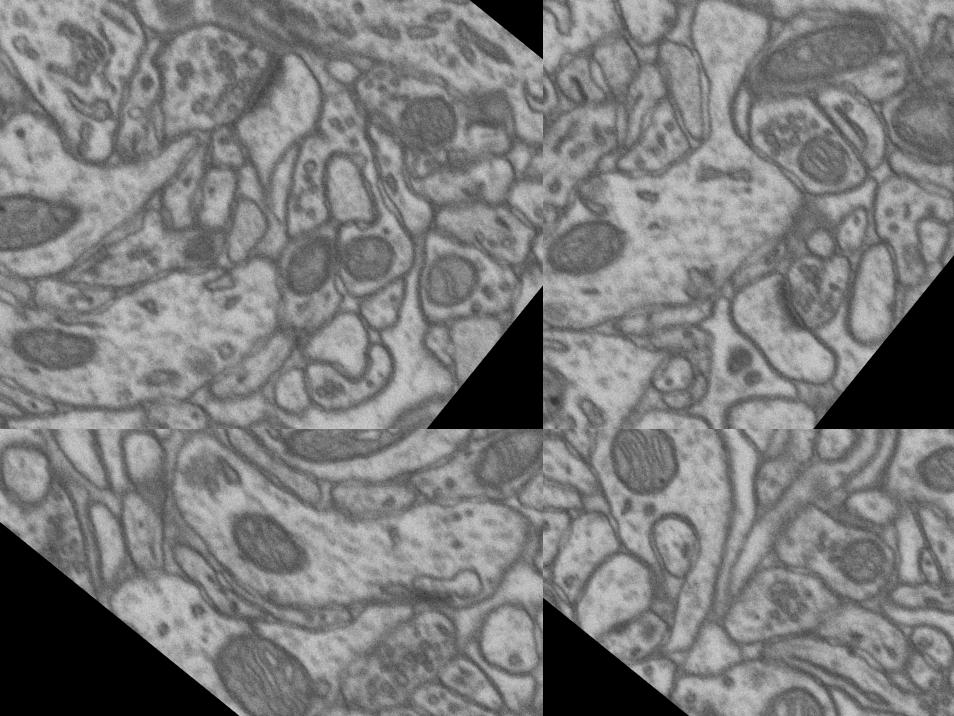mitochondria: (733, 0, 909, 146), (183, 605, 333, 716), (0, 137, 94, 298), (275, 429, 451, 513), (543, 186, 644, 309), (576, 429, 709, 522), (0, 288, 107, 403), (208, 488, 320, 596), (772, 114, 877, 219), (867, 66, 954, 180), (400, 232, 497, 330), (810, 511, 906, 610), (384, 76, 476, 168), (264, 223, 354, 315), (324, 217, 412, 306), (731, 656, 845, 716), (459, 429, 543, 508), (897, 429, 954, 528), (543, 325, 588, 429), (543, 559, 590, 625)
